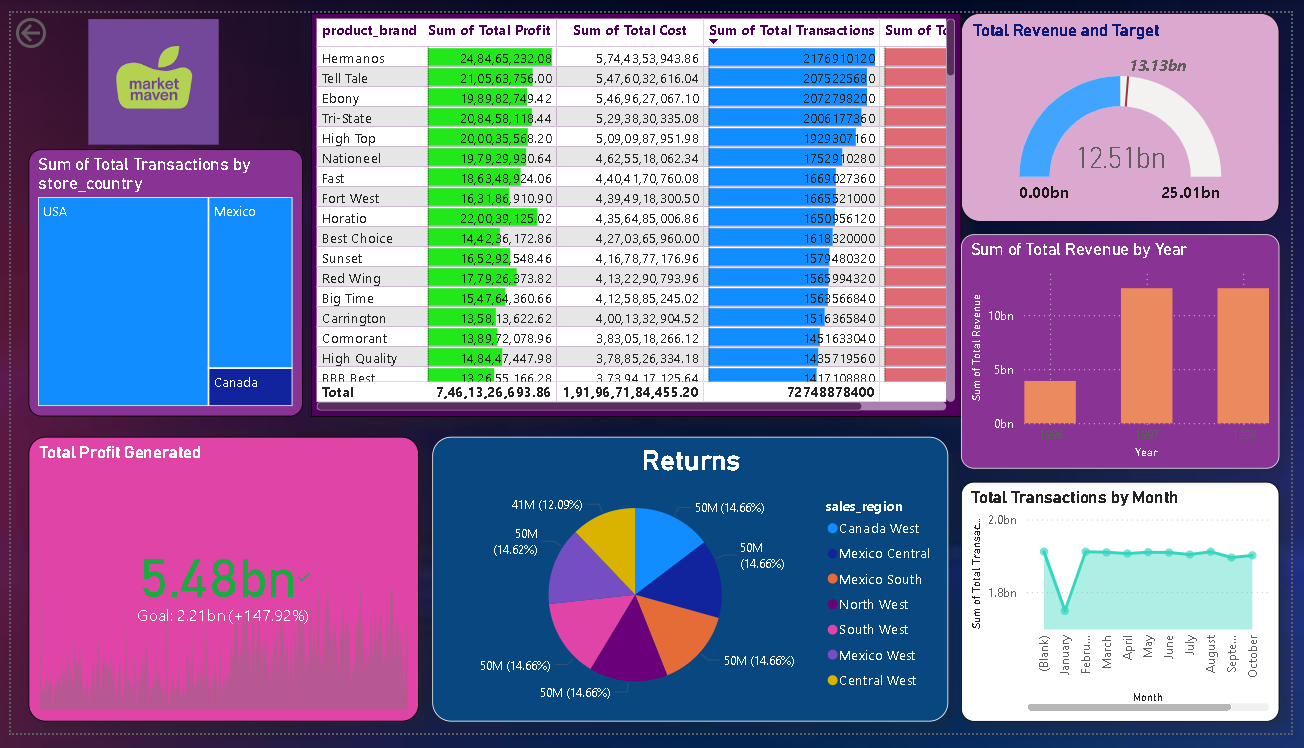

This screenshot's page, from the dashboard's own definition file:
{"tool":"powerbi","page":{"name":"Topline Performance","canvas":[1280,720],"ordinal":0},"visuals":[{"type":"image","box":[72.5,1.2,140,135],"z":0},{"type":"pivotTable","fields":{"Rows":["Products.product_brand"],"Values":["Sum(MavenMarket_Returns.Total Profit)","Sum(Transactions_Data.Total Cost)","Sum(Transactions_Data.Total Transactions)","Sum(MavenMarket_Returns.Total Returns)"]},"box":[300,0,650,403.8],"z":1000},{"type":"pieChart","title":"Returns","fields":{"Y":["Sum(MavenMarket_Returns.Total Returns)"],"Category":["Regions.sales_region"]},"box":[421.2,423.8,516.2,285],"z":2000},{"type":"lineChart","title":"Total Transactions by Month","fields":{"Category":["Calender.Start of Month.Variation.Date Hierarchy.Month"],"Y":["Sum(MavenMarket_Returns.Total Transactions)"]},"box":[950,468.6,318.6,240],"z":3000},{"type":"kpi","title":"Total Profit Generated","fields":{"TrendLine":["Calender.date"],"Goal":["Sum(MavenMarket_Returns.Total Cost)"],"Indicator":["Sum(MavenMarket_Returns.Total Revenue)"]},"box":[17.5,423.8,390,285],"z":4000},{"type":"treemap","fields":{"Group":["Stores.store_country"],"Values":["Sum(Transactions_Data.Total Transactions)"]},"box":[17.1,135.7,274.3,267.1],"z":5000},{"type":"actionButton","box":[0,0,100,40],"z":6000},{"type":"columnChart","fields":{"Category":["Calender.Start of Week.Variation.Date Hierarchy.Year","Calender.Start of Week.Variation.Date Hierarchy.Quarter","Calender.Start of Week.Variation.Date Hierarchy.Month","Calender.Start of Week.Variation.Date Hierarchy.Day"],"Y":["Sum(MavenMarket_Returns.Total Revenue)"]},"box":[950,221.4,318.6,234.3],"z":7000},{"type":"gauge","title":"Total Revenue and Target","fields":{"Y":["Sum(MavenMarket_Returns.Total Revenue)"],"TargetValue":["Sum(MavenMarket_Returns.Revenue Target)"]},"box":[950,0,318.6,208.6],"z":8000}]}

Visuals, with their boxes in screenshot pixels (x1, y1, x2, y2), scaled from the page's 1280x720 canvas onto the 1304x748 screenshot:
image: left=74, top=1, right=216, bottom=141
pivotTable - Products.product_brand x Sum(MavenMarket_Returns.Total Profit): left=306, top=0, right=968, bottom=420
"Returns" pieChart: left=429, top=440, right=955, bottom=736
"Total Transactions by Month" lineChart: left=968, top=487, right=1292, bottom=736
"Total Profit Generated" kpi: left=18, top=440, right=415, bottom=736
treemap - Stores.store_country x Sum(Transactions_Data.Total Transactions): left=17, top=141, right=297, bottom=418
actionButton: left=0, top=0, right=102, bottom=42
columnChart - Calender.Start of Week.Variation.Date Hierarchy.Year x Calender.Start of Week.Variation.Date Hierarchy.Quarter: left=968, top=230, right=1292, bottom=473
"Total Revenue and Target" gauge: left=968, top=0, right=1292, bottom=217
